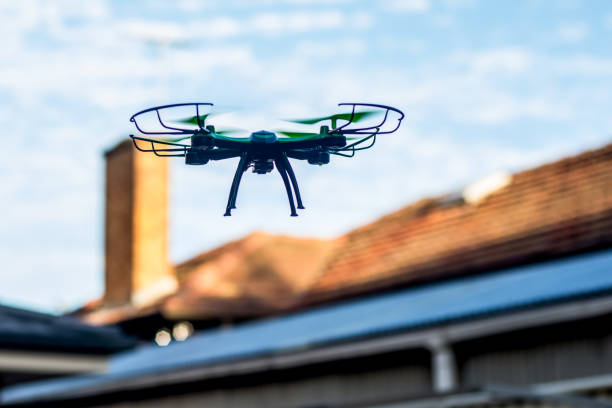Drone: (123, 96, 406, 221)
